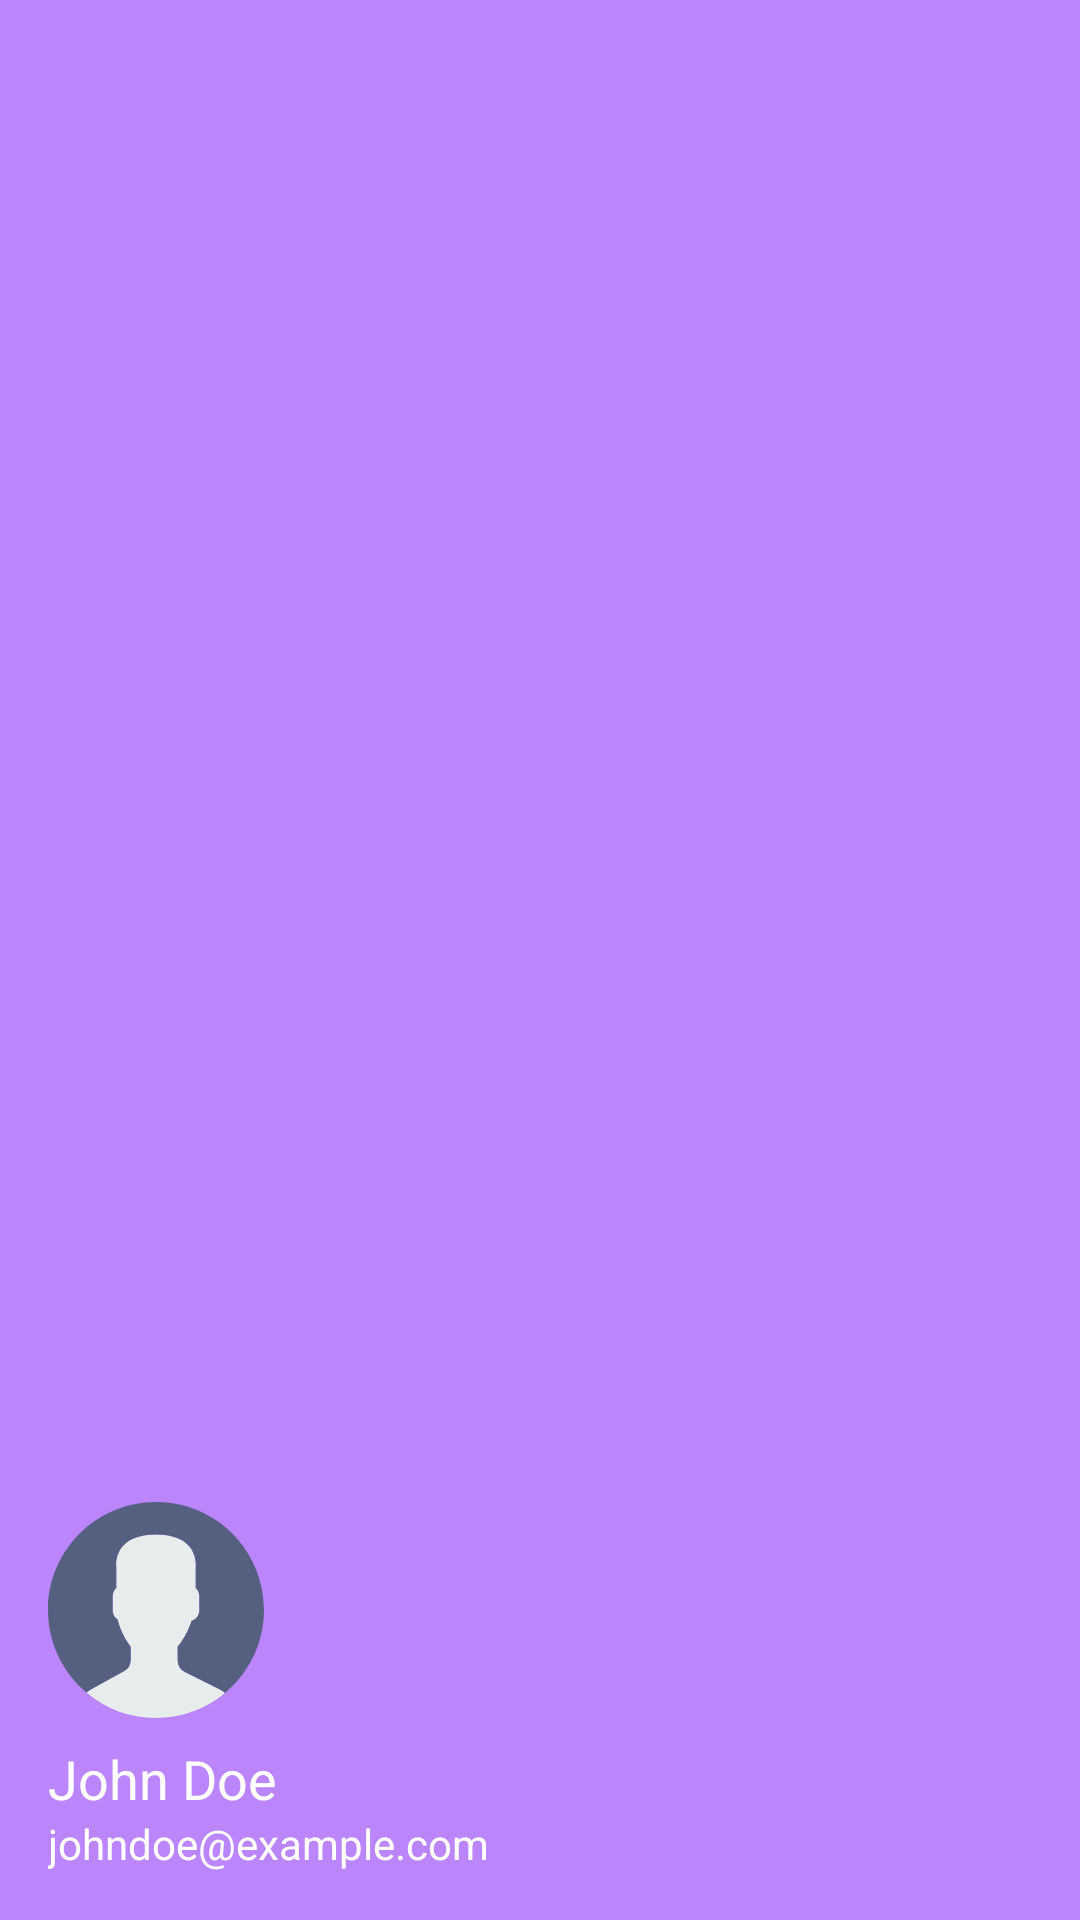

Where to tap for icons on this 1080×1920 app screen, as (x,y):
Profile picture: (156,1610)
